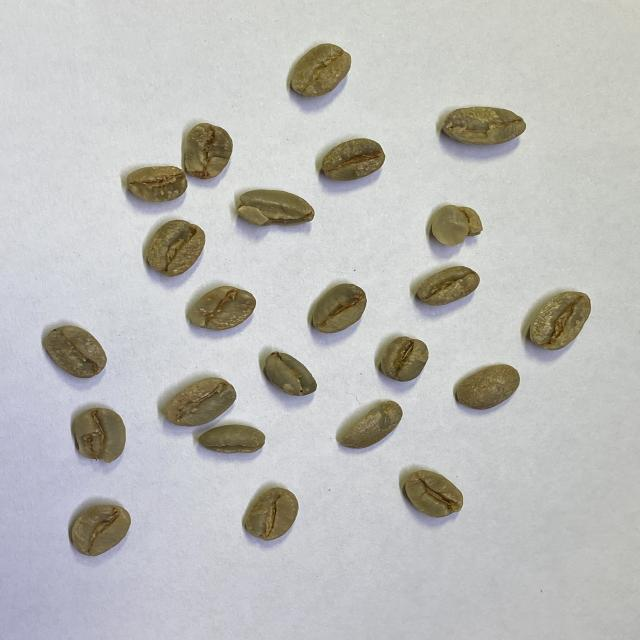bad: (442, 106, 528, 150), (236, 188, 317, 230), (71, 406, 128, 462), (188, 286, 256, 332), (428, 204, 482, 248)
good: (525, 288, 592, 354), (40, 323, 108, 381), (286, 42, 352, 101), (401, 466, 467, 521), (144, 218, 206, 276), (336, 399, 403, 452), (160, 376, 238, 421), (71, 500, 131, 558), (454, 361, 522, 412), (242, 484, 300, 542), (308, 282, 367, 334), (182, 121, 233, 181), (319, 138, 386, 183), (415, 264, 480, 307), (262, 350, 318, 399), (378, 334, 430, 384), (126, 166, 188, 203), (199, 422, 266, 456)
